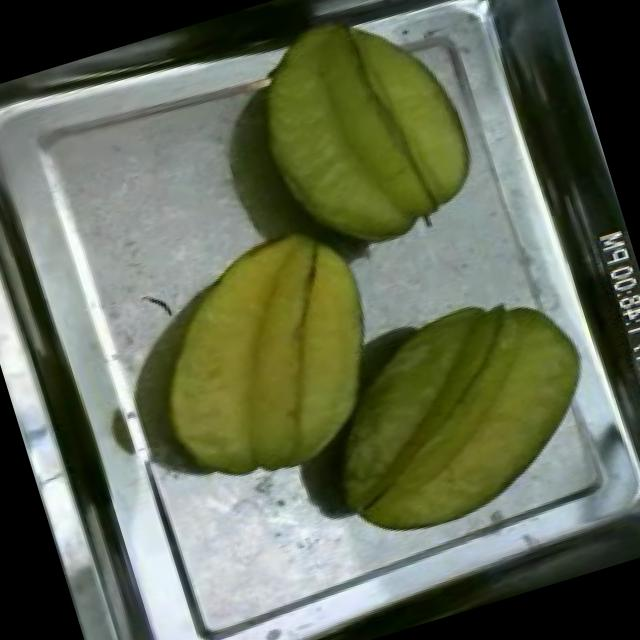fruit: (281, 268, 625, 566), (110, 207, 414, 510), (222, 0, 506, 280)
